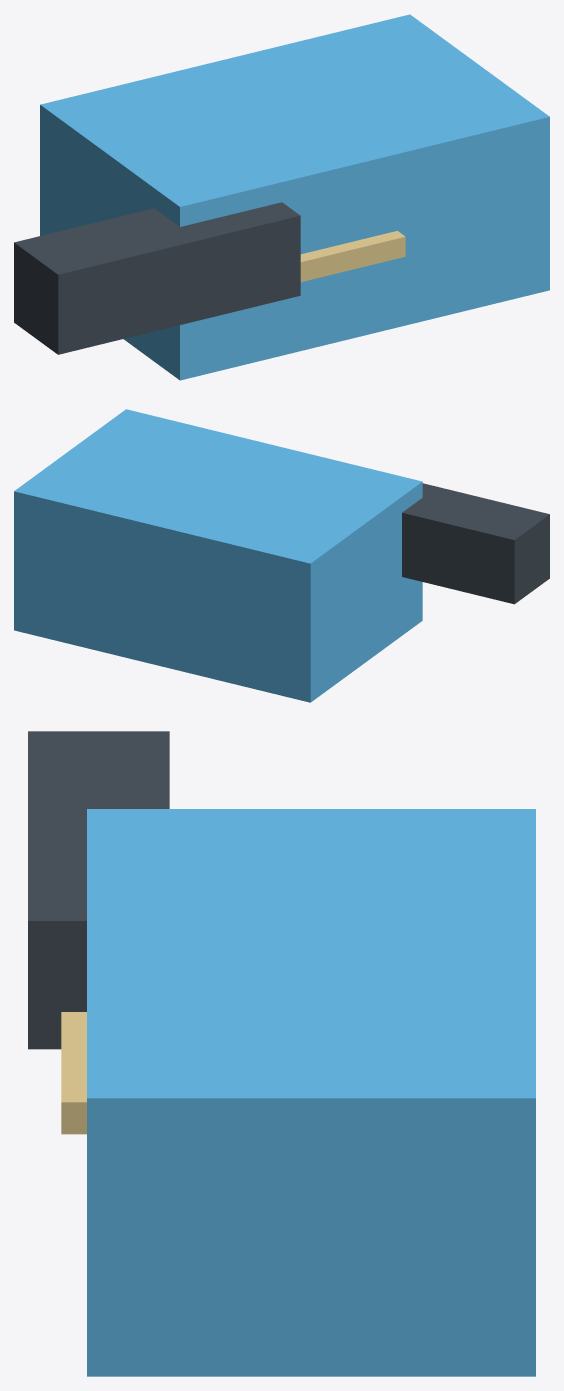
3 renders of one model, top to bottom at view 1: azimuth 30°, elevation 25°; view 2: azimuth 150°, elevation 25°; view 3: azimuth 270°, elevation 25°, orthographic. The views are drawn at different scales.
Visible parts, largest first — view 1: rj45_plug_1, latch_2, rj45_contact_10, rj45_contact_7, rj45_contact_8, rj45_contact_9; view 2: rj45_plug_1, latch_2; view 3: rj45_plug_1, latch_2, rj45_contact_10.
Part boxes in pixels (bbox=[...]): rj45_plug_1: bbox=[40, 14, 549, 380]; latch_2: bbox=[14, 202, 300, 354]; rj45_contact_10: bbox=[373, 231, 405, 264]; rj45_contact_7: bbox=[300, 248, 332, 281]; rj45_contact_8: bbox=[325, 242, 357, 274]; rj45_contact_9: bbox=[349, 236, 380, 268]; rj45_plug_1: bbox=[14, 409, 422, 702]; latch_2: bbox=[402, 483, 549, 604]; rj45_plug_1: bbox=[87, 809, 535, 1376]; latch_2: bbox=[28, 731, 169, 1049]; rj45_contact_10: bbox=[61, 1083, 86, 1134].
Bounding box in the file's own units: 0.4 × 0.13 × 0.215.
